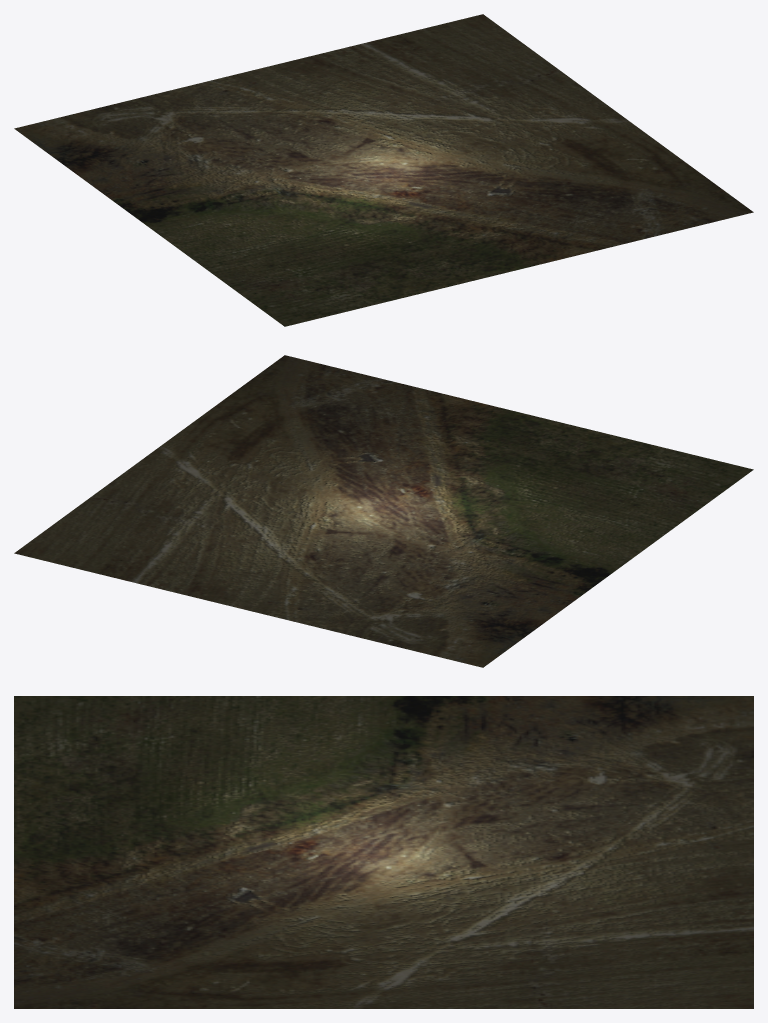
The model's file is terrainvague.glb.
3 renders of one model, top to bottom at view 1: azimuth 30°, elevation 25°; view 2: azimuth 150°, elevation 25°; view 3: azimuth 270°, elevation 25°, orthographic. The views are drawn at different scales.
Visible parts, largest first — view 1: Plane; view 2: Plane; view 3: Plane.
Boxes of the visible parts, x1,y1,x2,y2 form: Plane: (14, 14, 753, 326); Plane: (14, 355, 753, 667); Plane: (14, 696, 753, 1008).
Bounding box in the file's own units: 40 × 0 × 40.
1 material, 1 textured.
